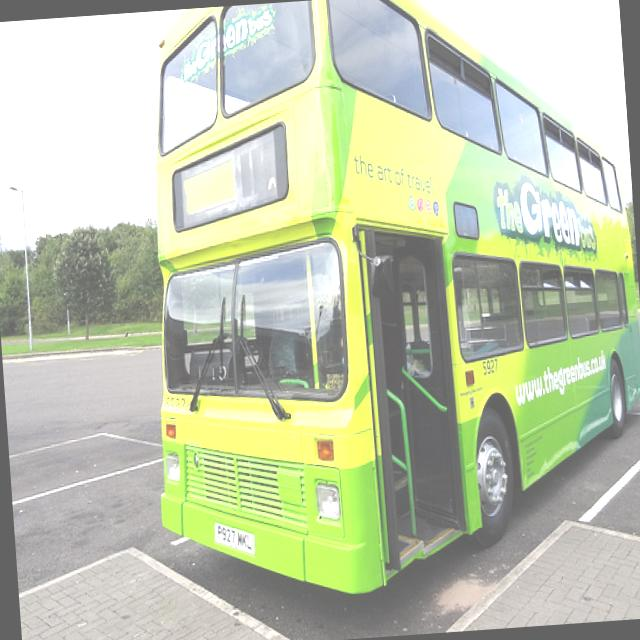Vehicle: (124, 0, 640, 607)
